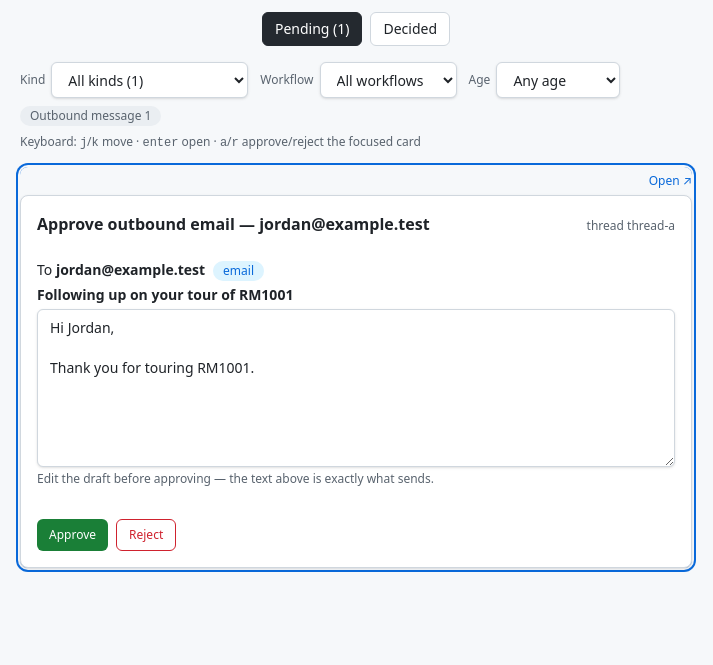
Scenario: Draft persistence across unmount (BOP-028 review-gate r2) › keeps the edited draft when a failed decide rolls the card back
Replace the text in the text box named "Draft body" with "Carefully edited copy." at {"x": 356, "y": 388}, box [37,309,675,467]
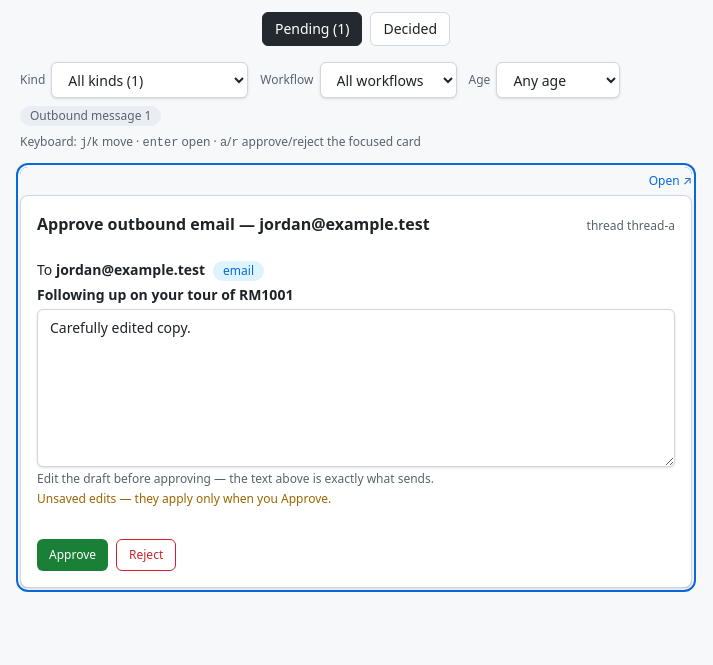
Click the button "Approve" at {"x": 72, "y": 555}, box [37,539,108,571]
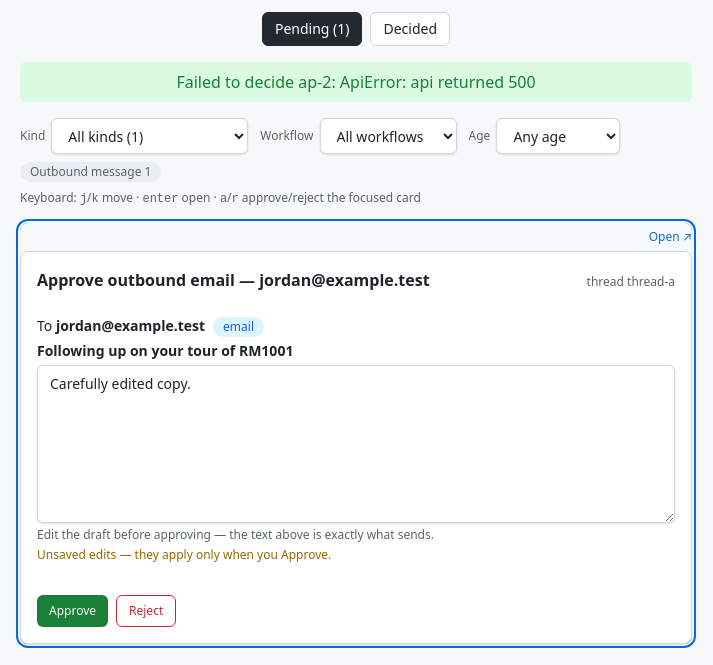
Expected: the text "Failed to decide ap-2: ApiError: api returned 500" is shown, [20,62,692,102]
